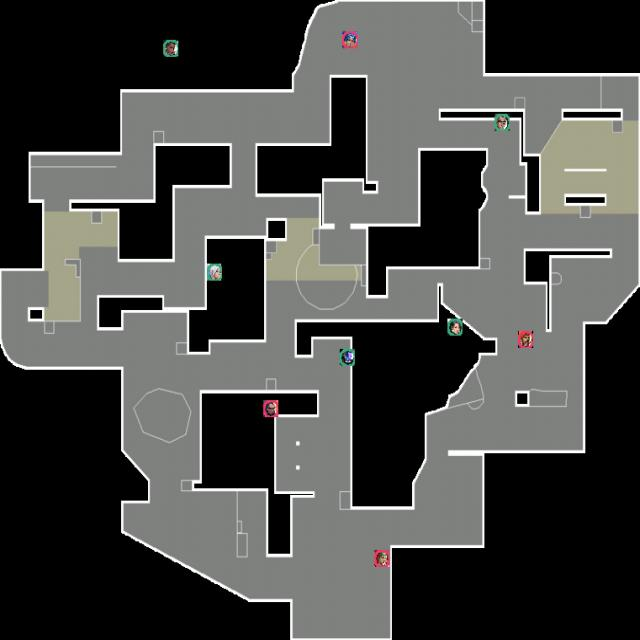atk_brimstone: (518, 331, 533, 348)
atk_neon: (342, 32, 358, 48)
atk_reyna: (264, 400, 278, 417)
atk_skye: (374, 550, 390, 567)
def_astra: (163, 40, 178, 57)
def_chamber: (494, 114, 510, 131)
def_jett: (207, 264, 222, 280)
def_kayo: (340, 349, 355, 366)
def_sage: (448, 318, 462, 336)
